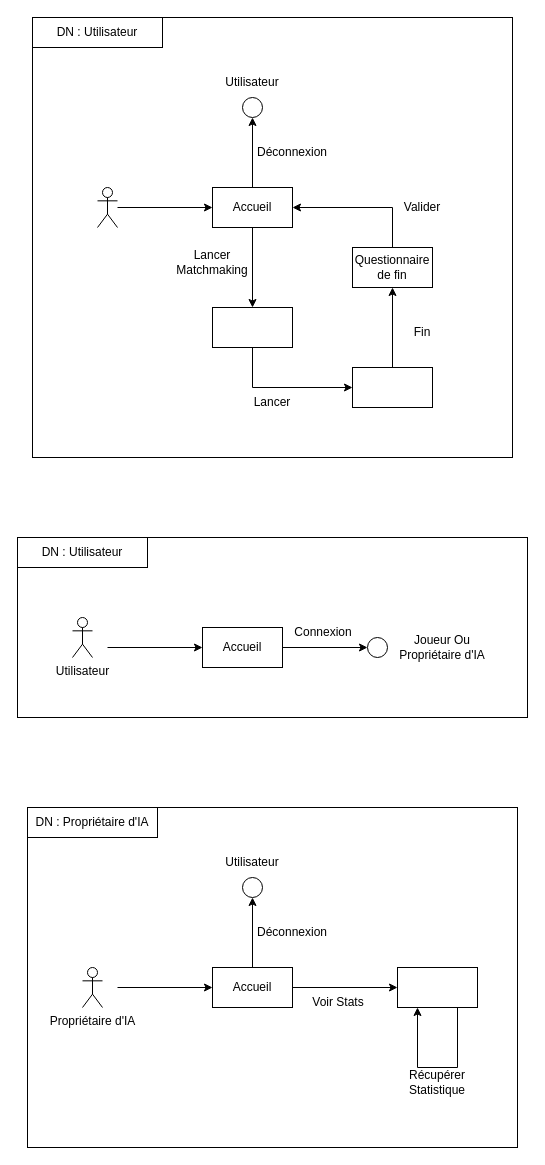
This 545x1165 diagram has some shape labels left out. The shapes that lost their labels are listed below. From the top down, each one's centre as x and y in pixels, then its label:
At point 107,207: "Joueur".
At point 252,327: "Attente".
At point 392,387: "Jeux".
At point 437,987: "Statistiques".
